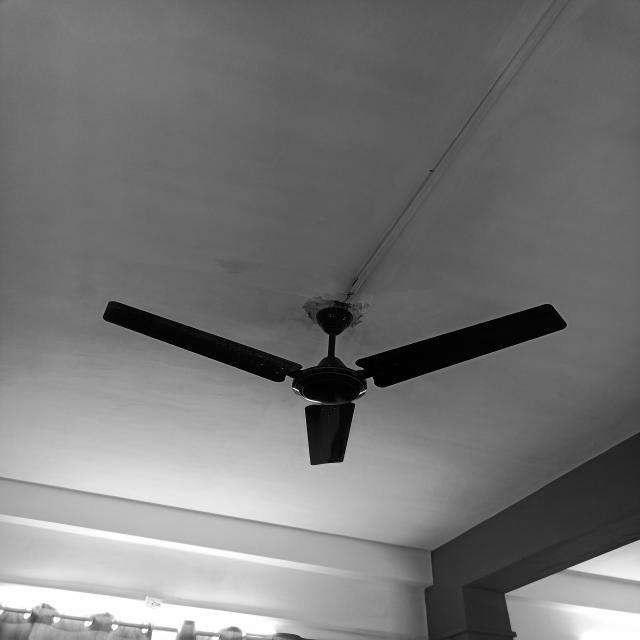fan: (102, 296, 567, 465)
